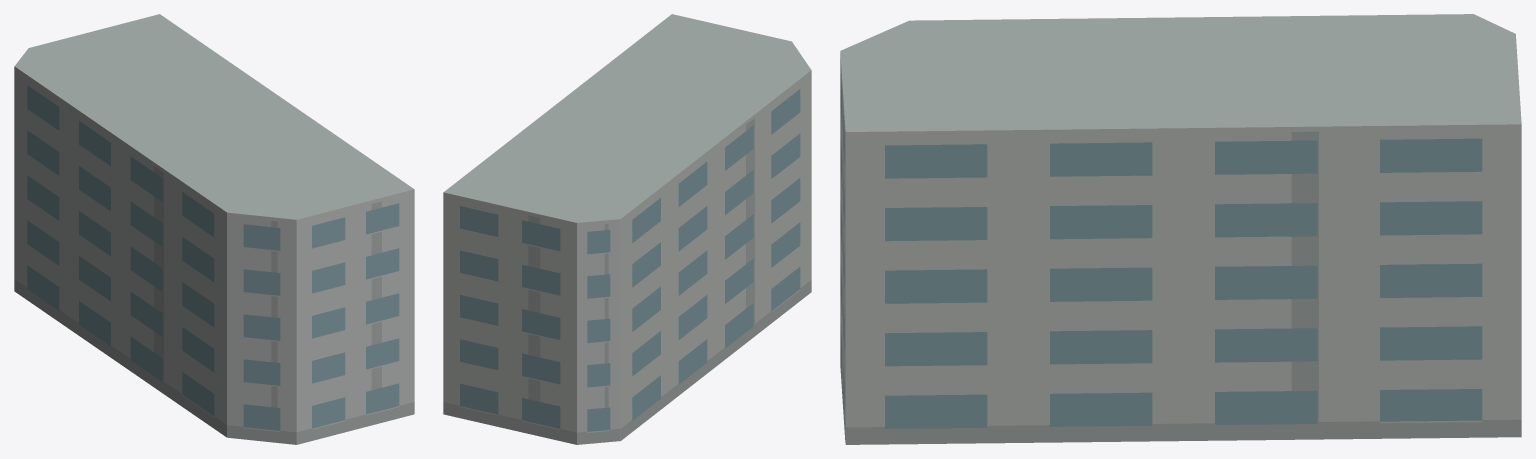
The model's file is residential-a8133306-cef9-4d94-8e40-70fe217e73b4.glb.
3 views of the same model, side by side, from view 1: azimuth 30°, elevation 25°; view 2: azimuth 150°, elevation 25°; view 3: azimuth 270°, elevation 25° (orthographic). The views are drawn at different scales.
Visible parts, largest first — view 1: residential-a8133306-cef9-4d94-8e40-70fe217e73b4.tmp; view 2: residential-a8133306-cef9-4d94-8e40-70fe217e73b4.tmp; view 3: residential-a8133306-cef9-4d94-8e40-70fe217e73b4.tmp.
Boxes of the visible parts, x1,y1,x2,y2 form: residential-a8133306-cef9-4d94-8e40-70fe217e73b4.tmp: (14, 14, 414, 444); residential-a8133306-cef9-4d94-8e40-70fe217e73b4.tmp: (443, 14, 811, 444); residential-a8133306-cef9-4d94-8e40-70fe217e73b4.tmp: (840, 14, 1521, 444).
Bounding box in the file's own units: 12.35 × 15.25 × 30.11.
